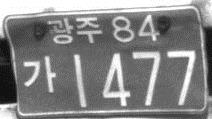1: (71, 52, 89, 109)
4: (100, 51, 131, 107), (136, 12, 160, 41)
7: (165, 48, 196, 107), (131, 49, 161, 108)
8: (111, 14, 134, 43)
가: (22, 55, 57, 93)
광주_O: (46, 16, 103, 44)
